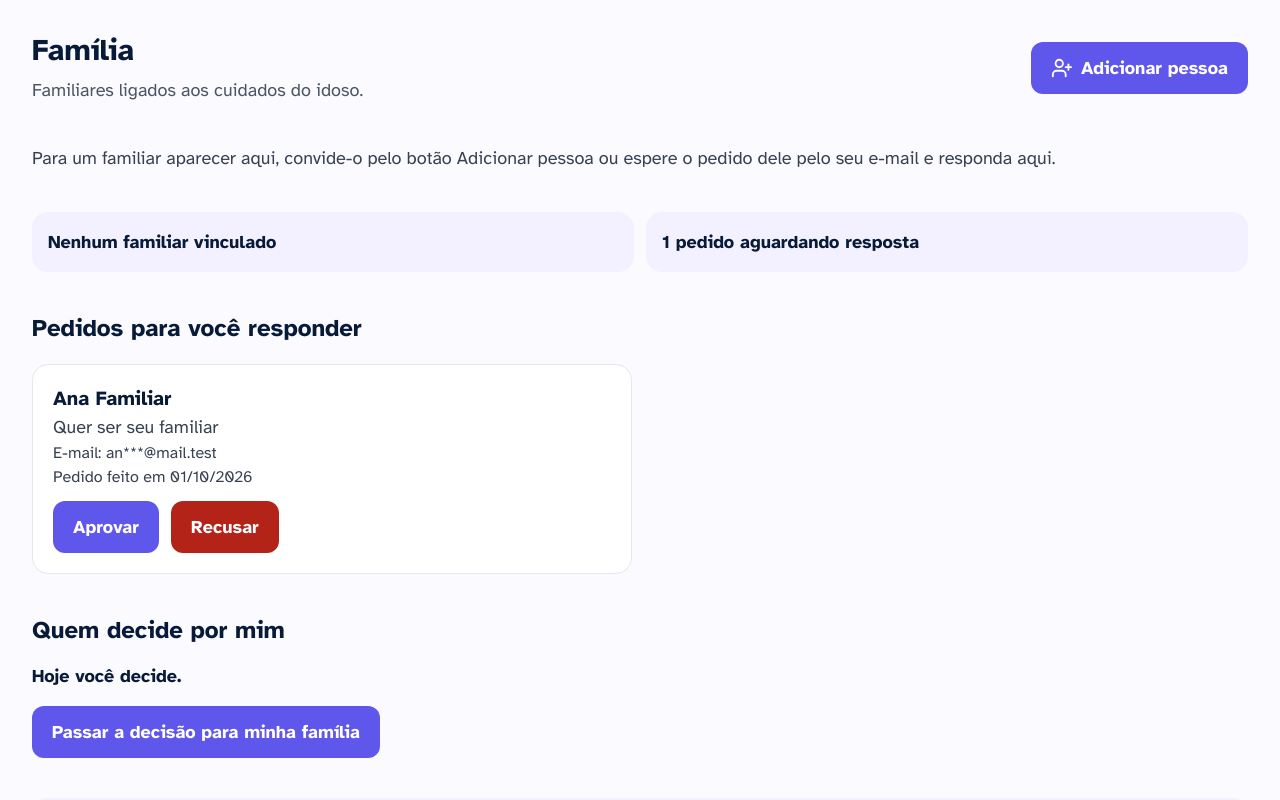
Scenario: Vinculos: quem decide por mim › idoso passa a decisão para a família: a seção atualiza e os botões de pedido somem
Check: the text "Hoje você decide." is shown, box [32,665,181,687]
Check: the button with aria-label "aprovar o pedido de Ana" is shown, box [53,501,159,553]
Click the button "Passar a decisão para minha família" at (206, 732), box [32,706,380,758]
(page scrolled)
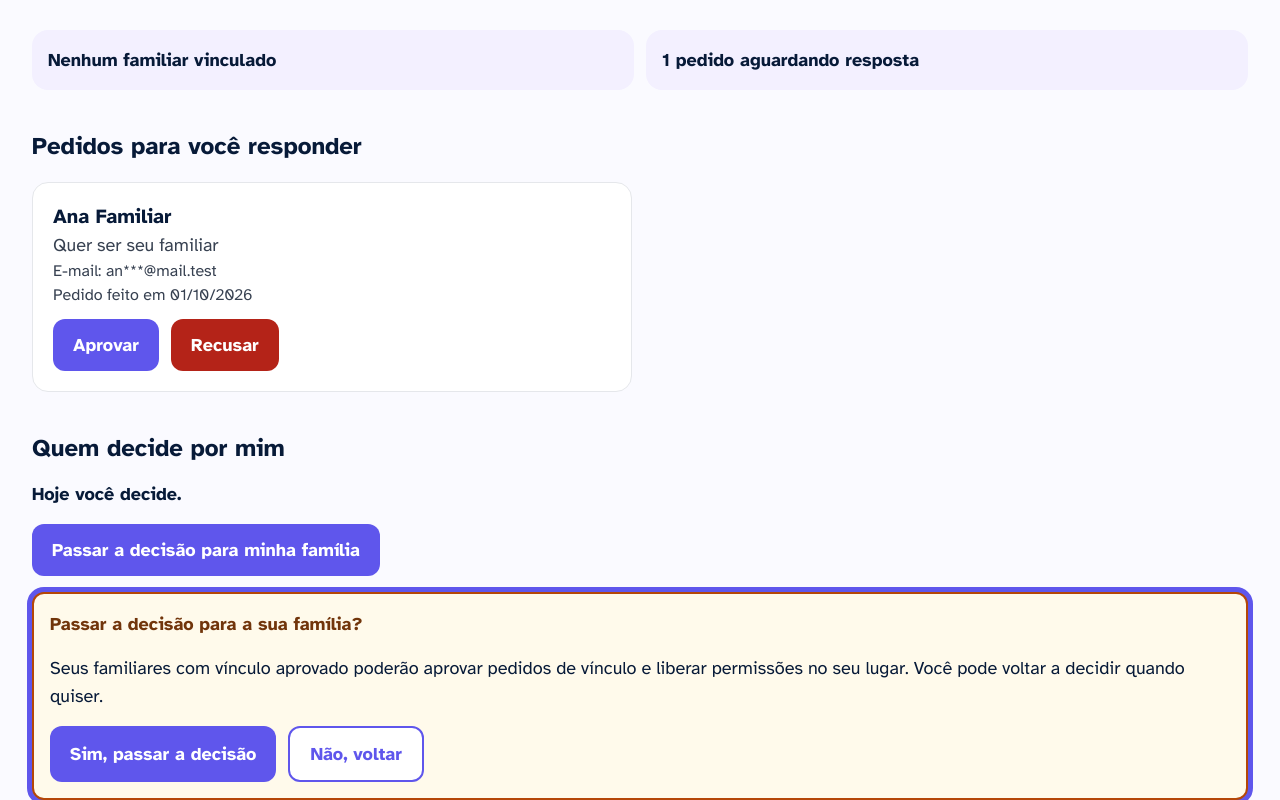
Click the button "Sim, passar a decisão" at (163, 754), box [50,726,276,782]
(page scrolled)
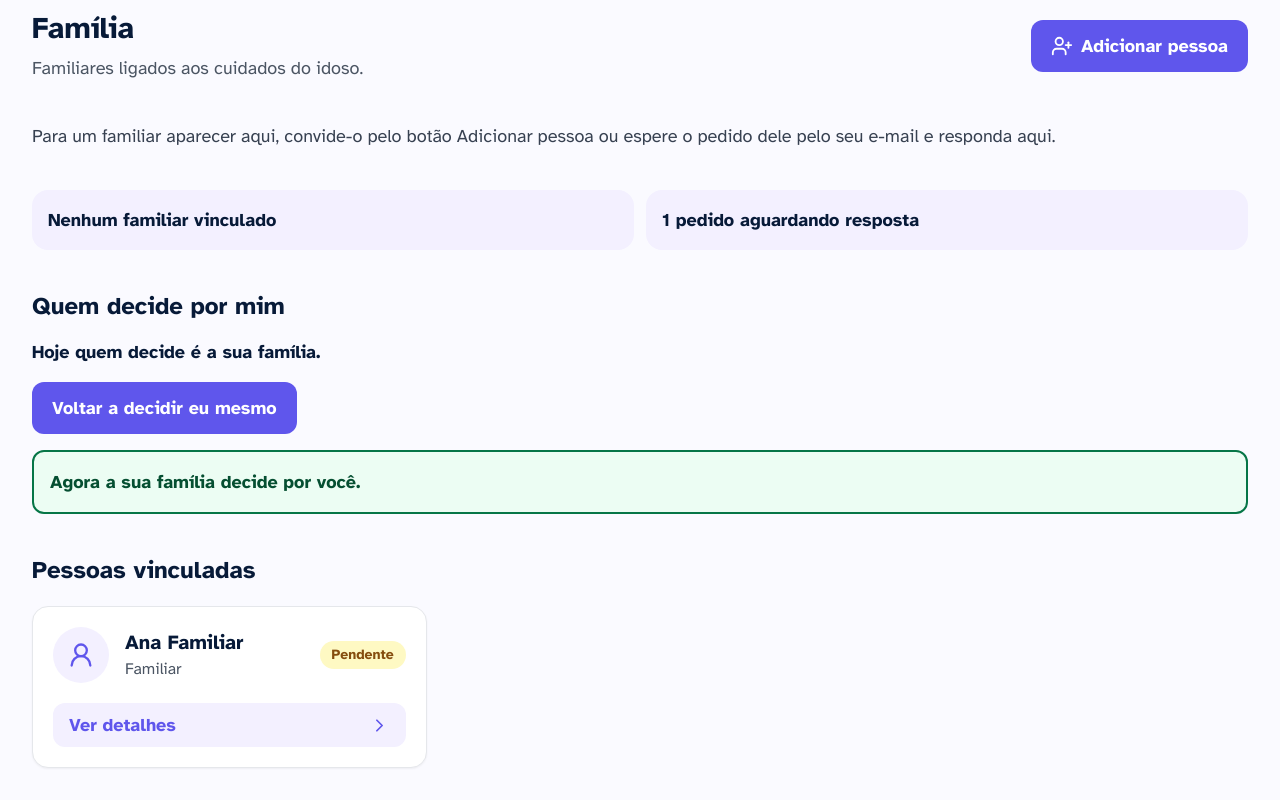
Check: the text "Hoje quem decide é a sua família." is shown, box [32,341,320,363]
